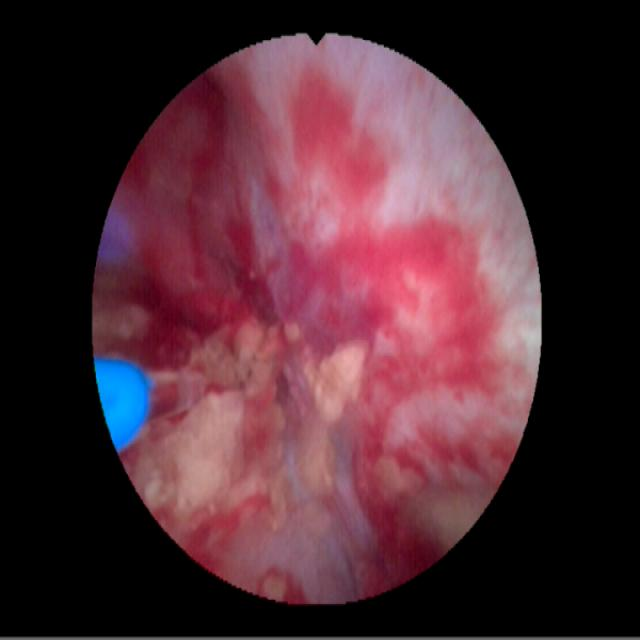fiber: (97, 362, 149, 451)
stone: (134, 321, 287, 542), (296, 340, 361, 493), (95, 277, 149, 343)
